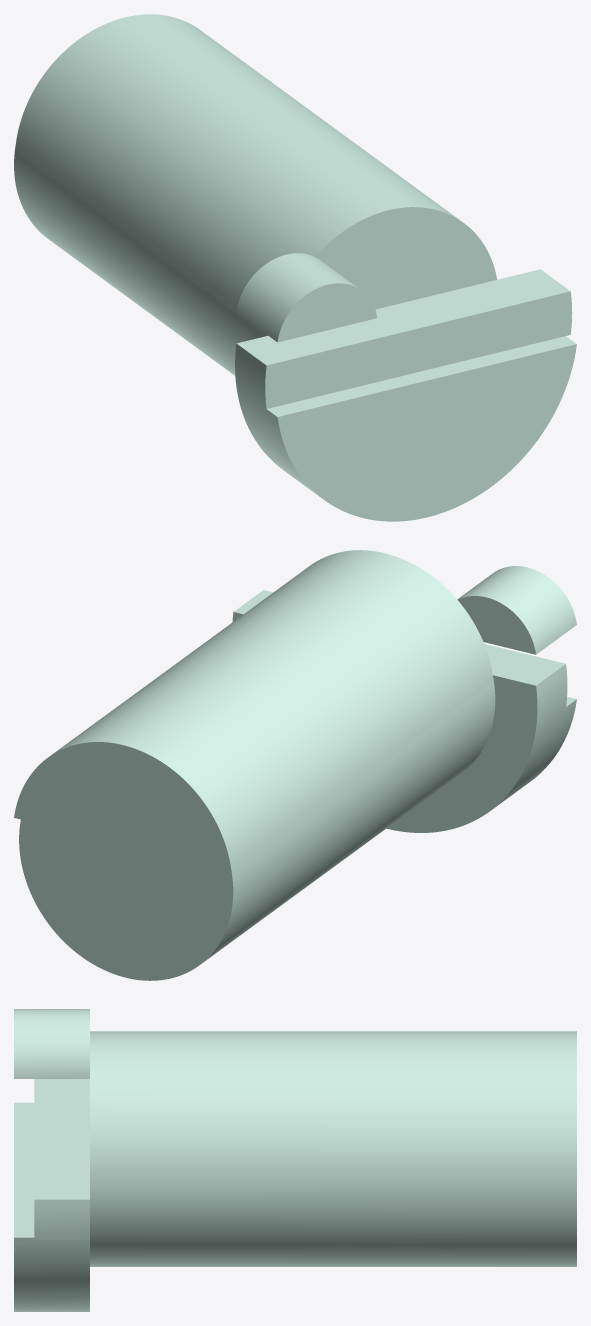
3 views of the same model, one above another, from view 1: azimuth 30°, elevation 25°; view 2: azimuth 150°, elevation 25°; view 3: azimuth 270°, elevation 25° (orthographic). The views are drawn at different scales.
Parts seen in each view (by area): view 1: Renderer Node; view 2: Renderer Node; view 3: Renderer Node.
Part boxes in pixels (x1,y1,x2,y2): Renderer Node: (14, 14, 576, 521); Renderer Node: (14, 550, 576, 980); Renderer Node: (14, 1009, 576, 1311).
Size of the model in its own units: 0.5046 by 0.4344 by 0.8672.
